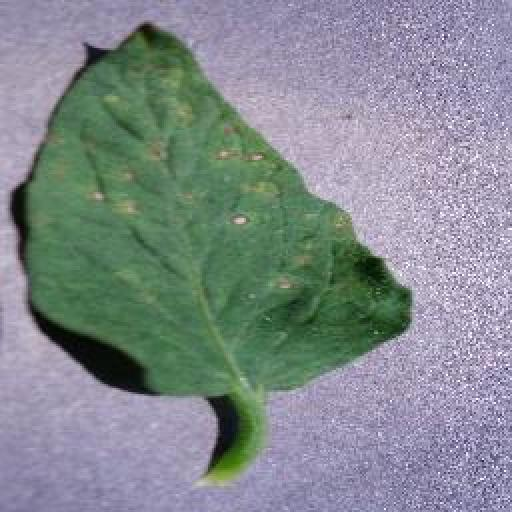Septoria: (27, 25, 415, 396)
